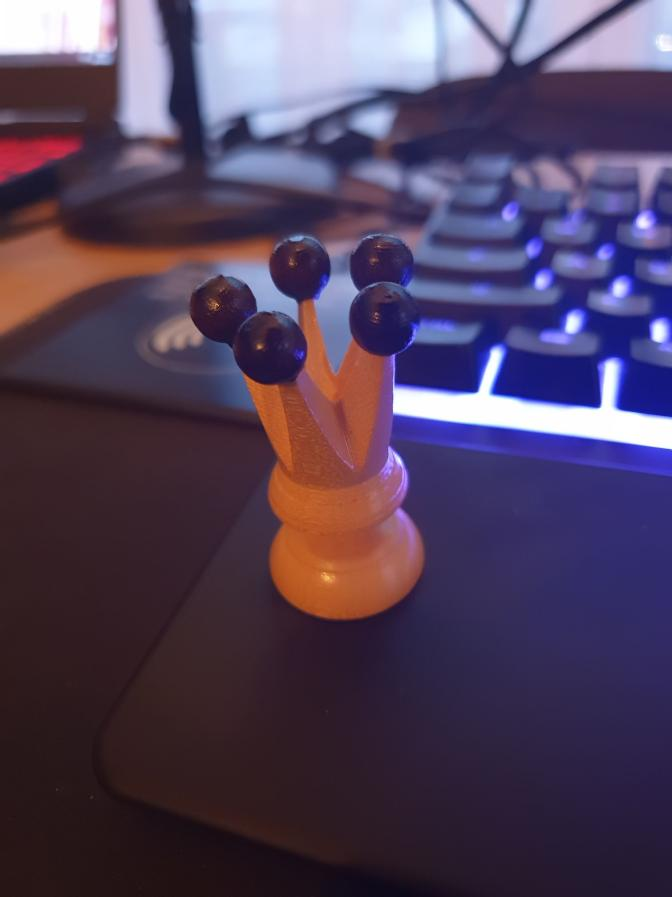wqueen: (190, 230, 427, 621)
